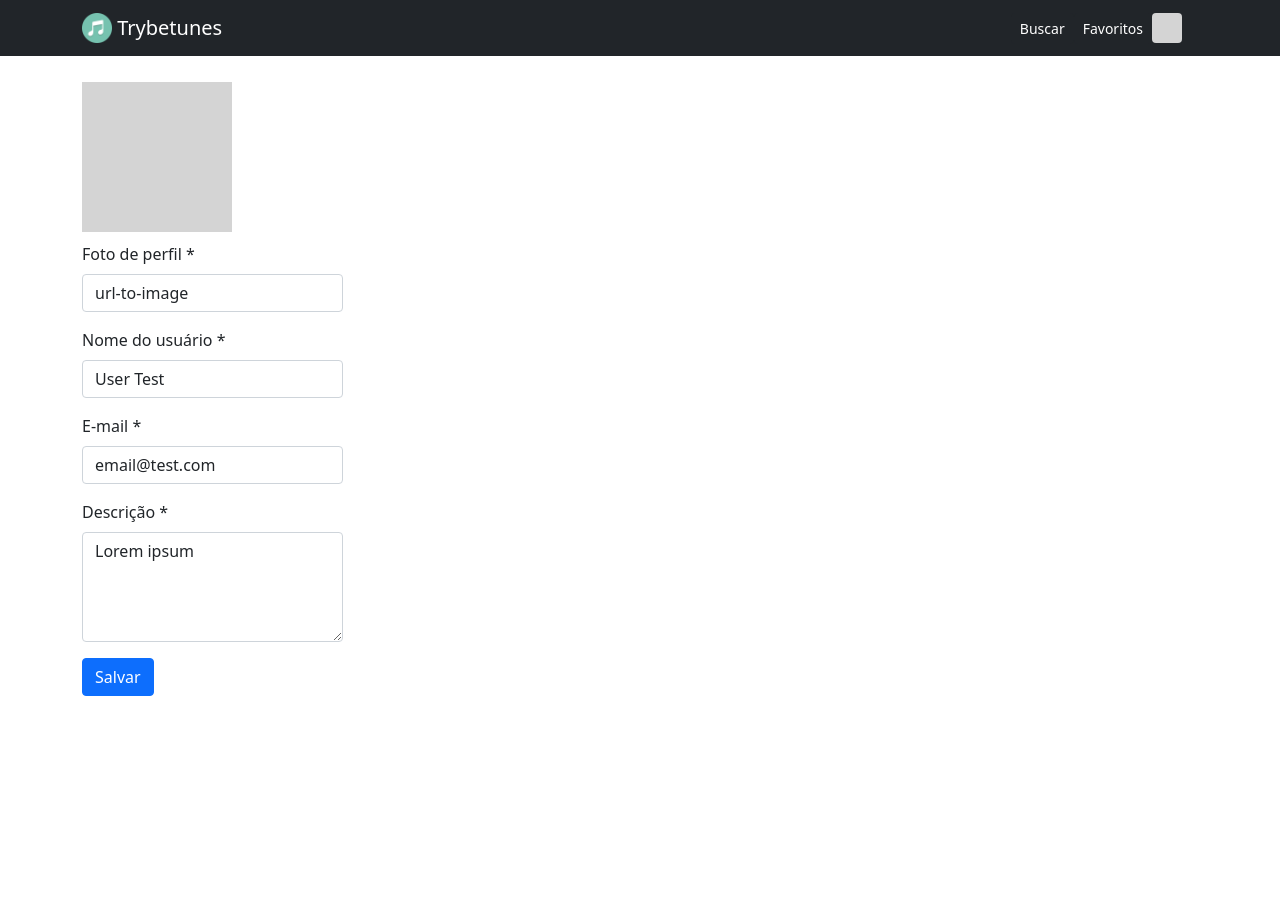
Scenario: Formulário de edição de perfil › Será validado se após salvar as informações a pessoa é redirecionada para a página de exibição de perfil
Click the button with test id "edit-button-save" at [118, 677], box [82,658,154,696]
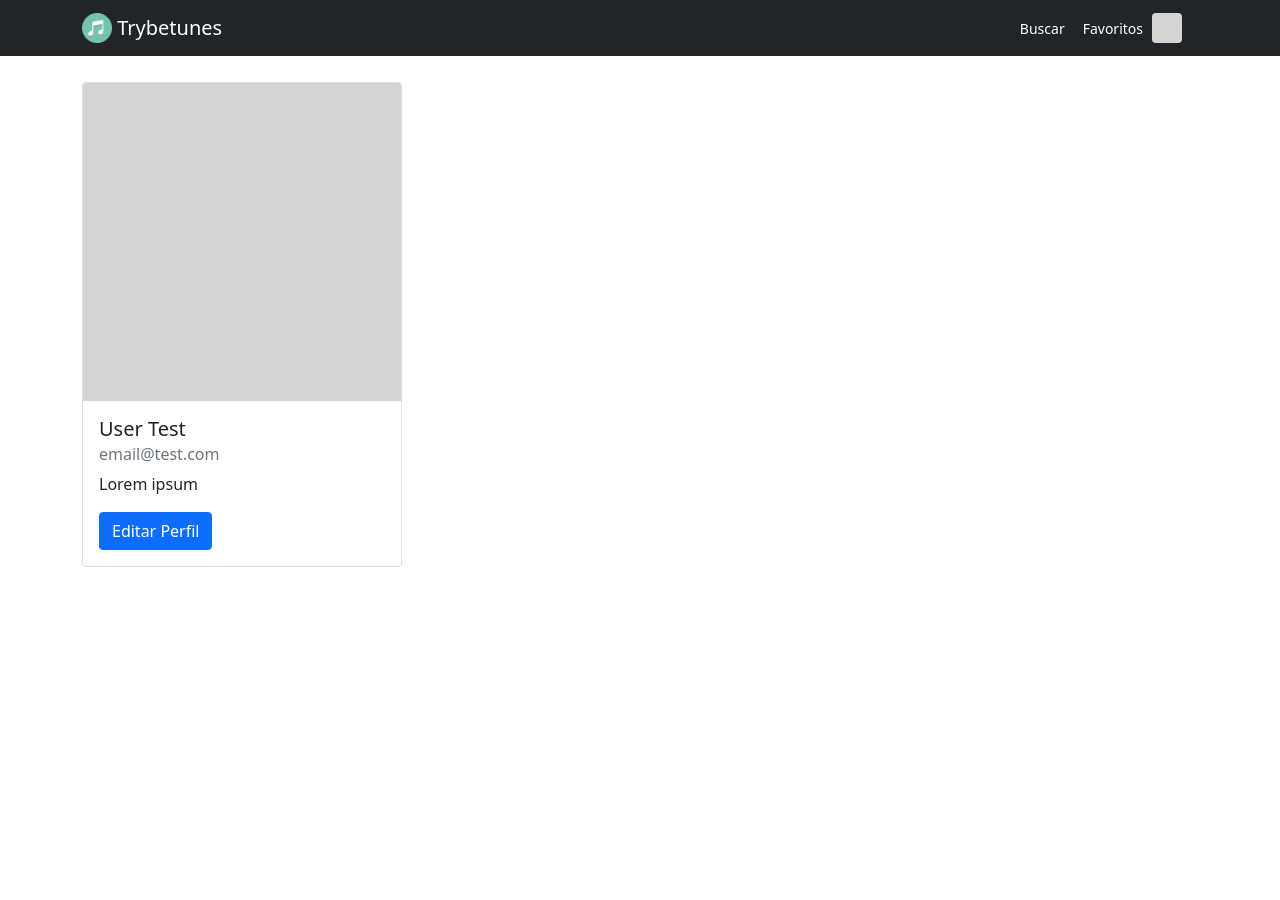
Now the button "Editar Perfil" is shown, box [99,512,212,550]
